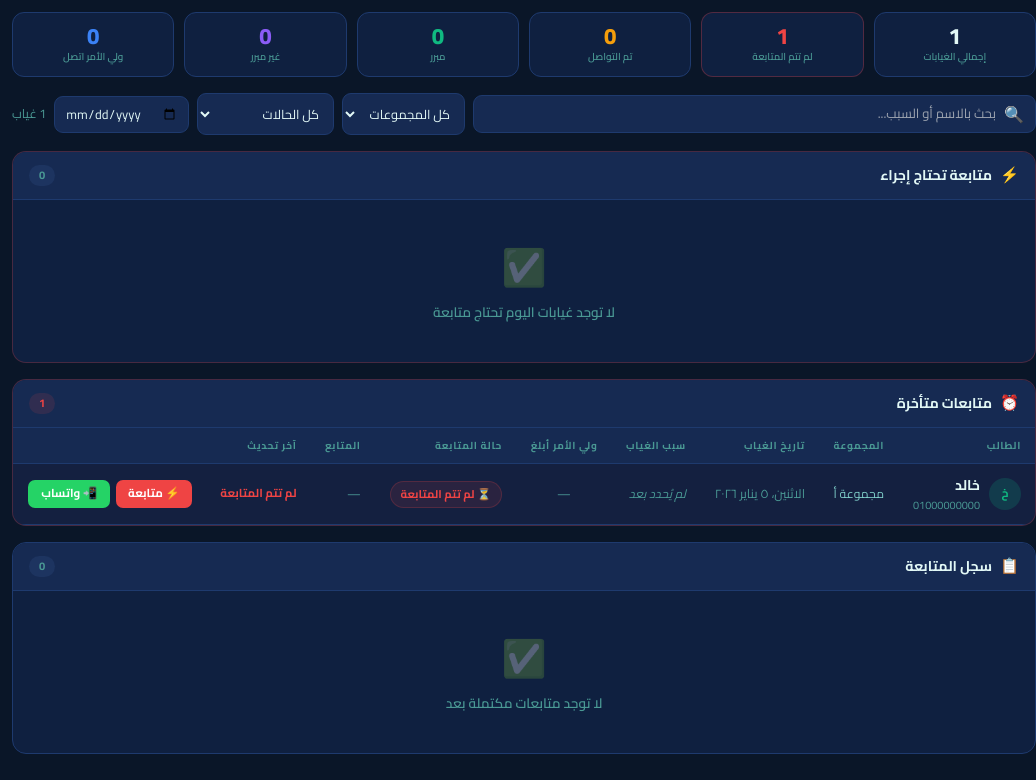
Test: AbsenceFollowup — WhatsApp action (V1) › shows the existing-style error toast when openWhatsapp reports an invalid phone, without crashing the page
Click the button "📲 واتساب" at (69, 494), box top-left (28, 480), bottom-right (110, 508)
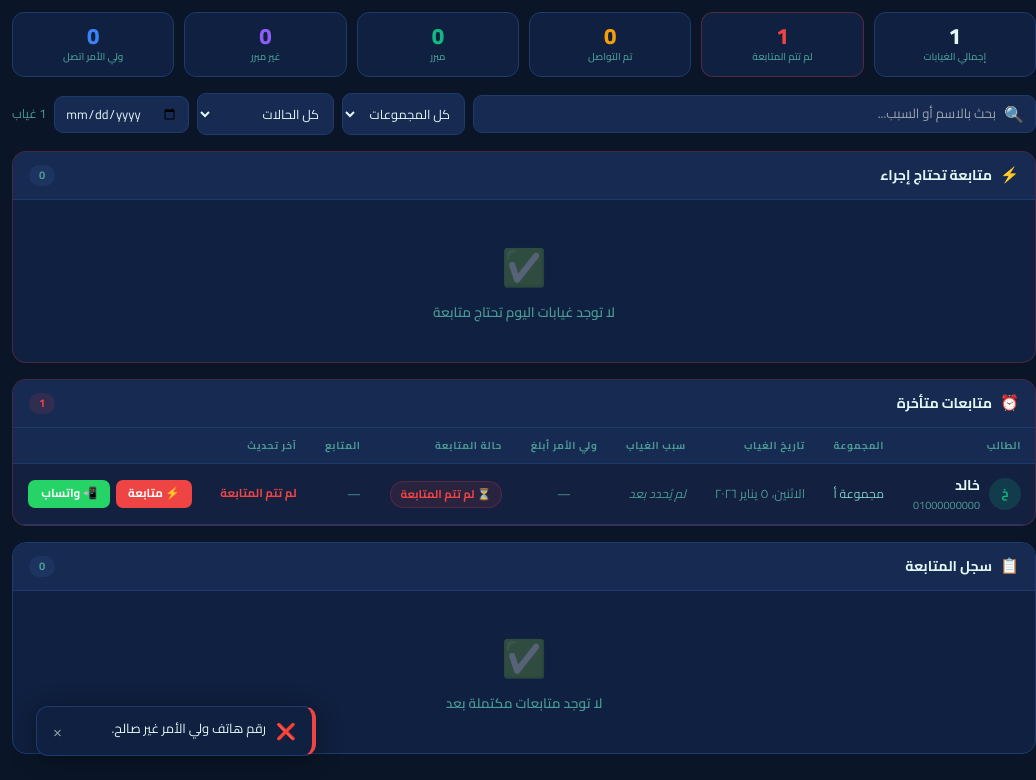
Result: the text "رقم هاتف ولي الأمر غير صالح." is shown at top-left (112, 716), bottom-right (266, 740)
